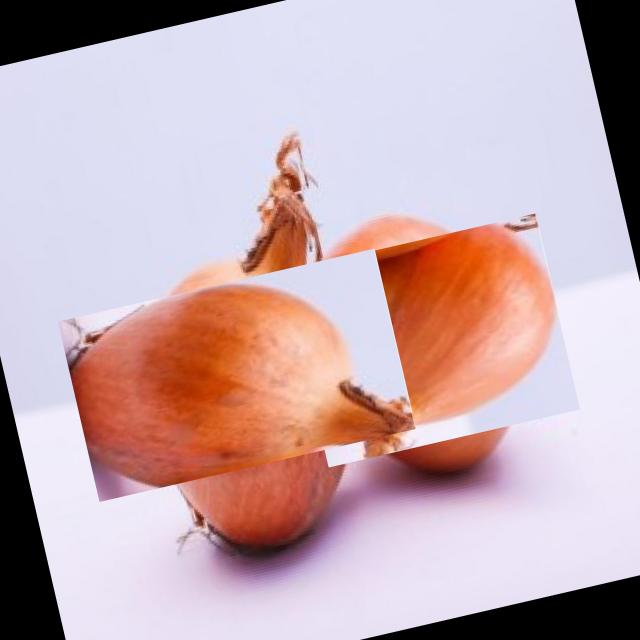Onion: (83, 222, 389, 528), (294, 202, 570, 478)
